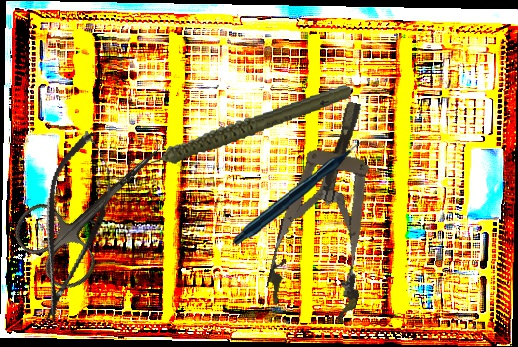Handpiece: (122, 83, 358, 170), (229, 139, 377, 247)
Iris Scissors: (4, 115, 193, 298)
Micro Scissor: (20, 125, 125, 329)
Speculum: (262, 92, 401, 326)
